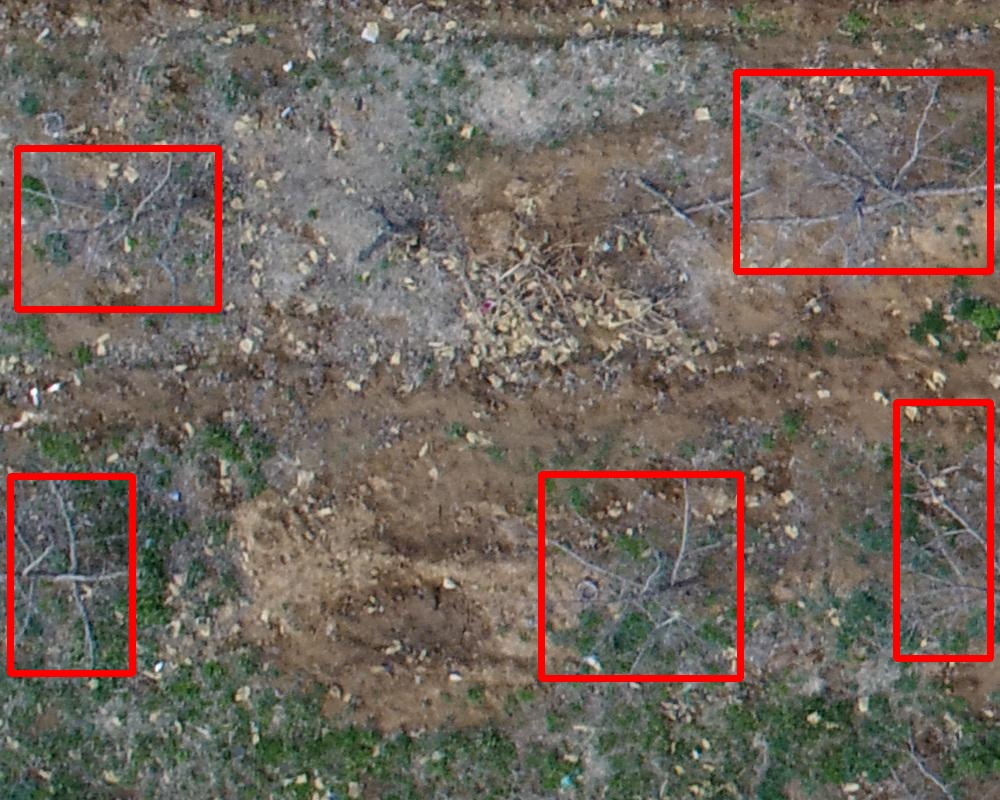apple: (736, 72, 990, 271), (541, 474, 740, 678), (17, 148, 218, 309), (896, 402, 990, 658), (10, 476, 132, 673)
